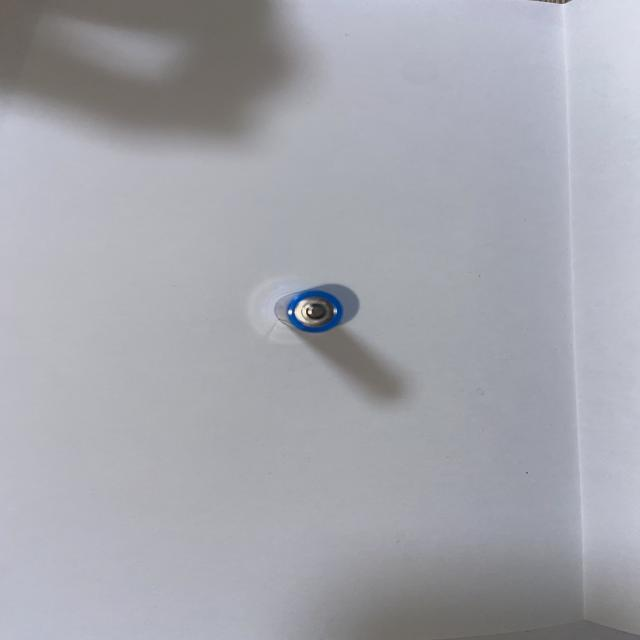Hazard: (270, 286, 345, 334)
